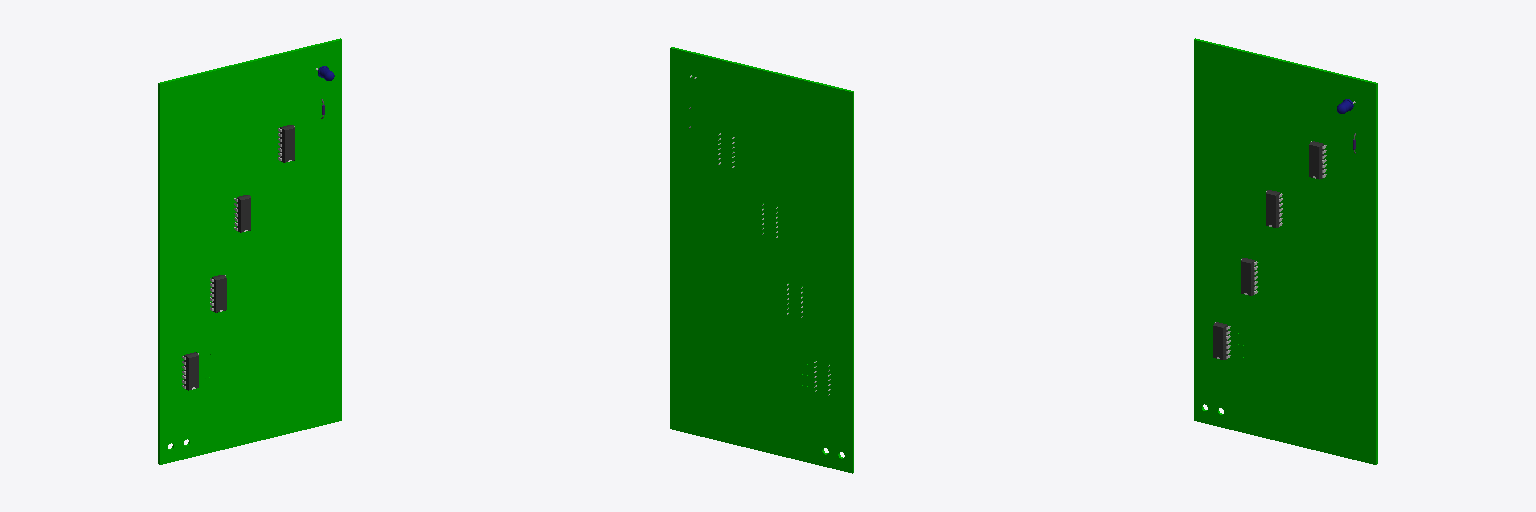
File: LAB6.obj
The picture shows the model from 3 angles: view 1: azimuth 30°, elevation 25°; view 2: azimuth 150°, elevation 25°; view 3: azimuth 330°, elevation 25°; orthographic projection.
Visible parts, largest first — view 1: Layer_1; view 2: Layer_1; view 3: Layer_1.
Boxes of the visible parts, box(x1,y1,x2,y2) form: Layer_1: box(158, 38, 341, 464); Layer_1: box(670, 47, 853, 473); Layer_1: box(1194, 38, 1377, 464).
Bounding box in the file's own units: 100 × 200 × 15.93.